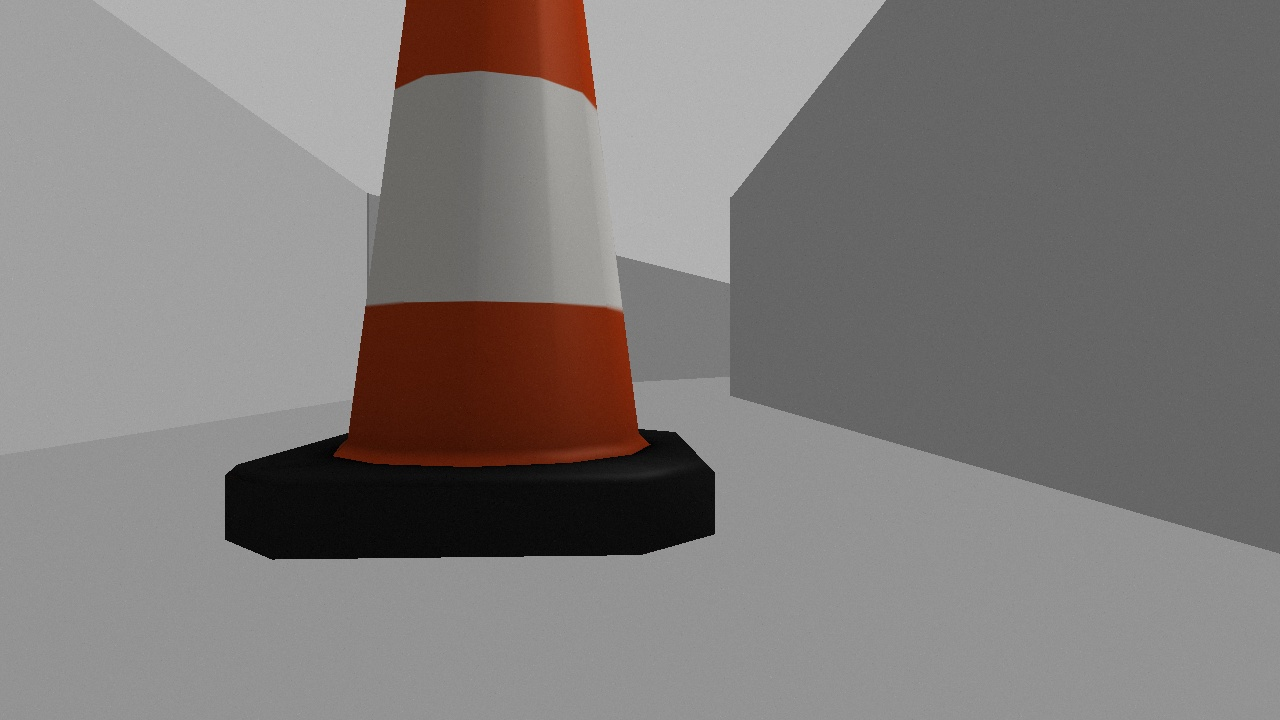barricade: (196, 1, 751, 589)
